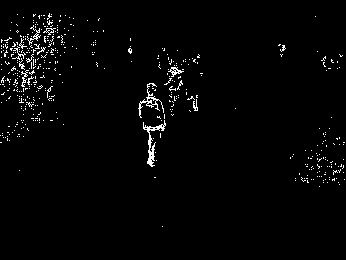person: (143, 81, 167, 170)
